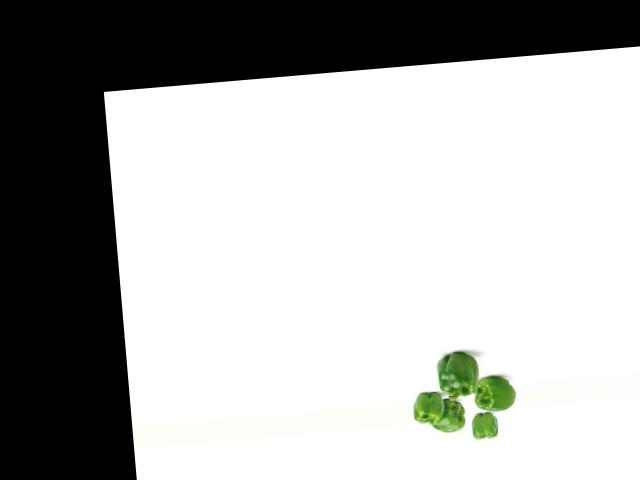bell_pepper: (411, 386, 447, 424)
